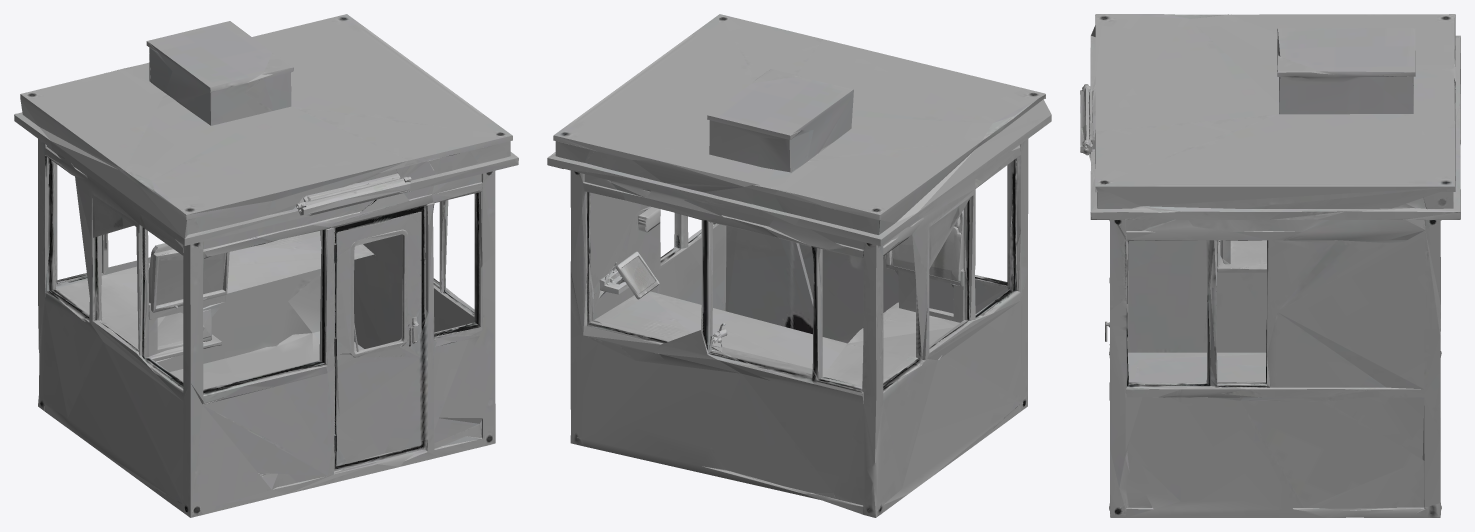
Rendered from docaBooth.glb.
3 views of the same model, side by side, from view 1: azimuth 30°, elevation 25°; view 2: azimuth 150°, elevation 25°; view 3: azimuth 270°, elevation 25° (orthographic). The views are drawn at different scales.
Size of the model in its own units: 1.9 by 1.9 by 1.73.
Materials: 1 (1 with a texture image).
